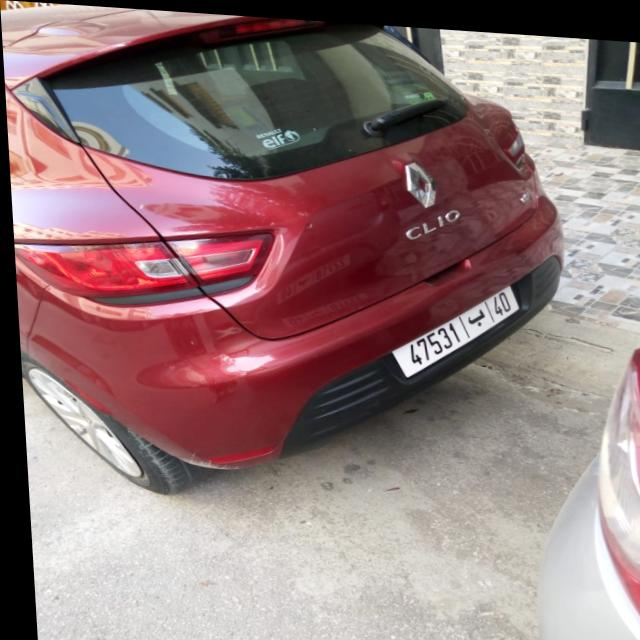License-Plate: (389, 280, 516, 371)
